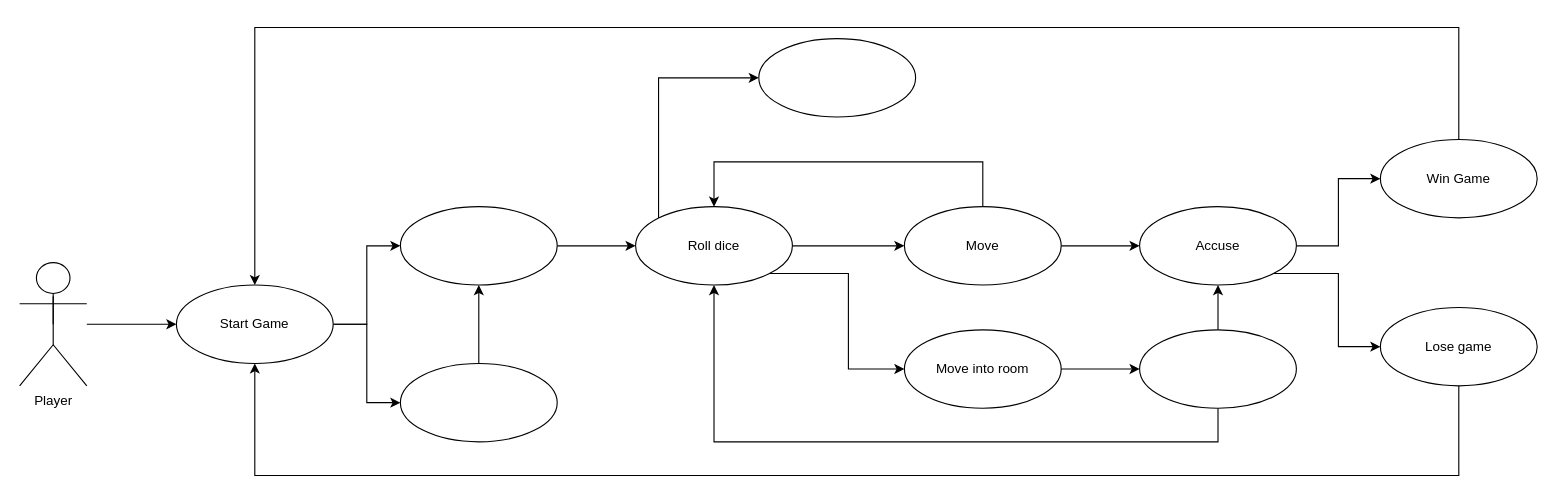
This 1557x504 diagram has some shape labels left out. Each missing label, with the box of its shape:
Edit board and character names: (399, 362, 557, 442)
Exit game: (758, 38, 916, 117)
Select Character: (399, 206, 557, 285)
Suggest: (1138, 329, 1296, 408)
